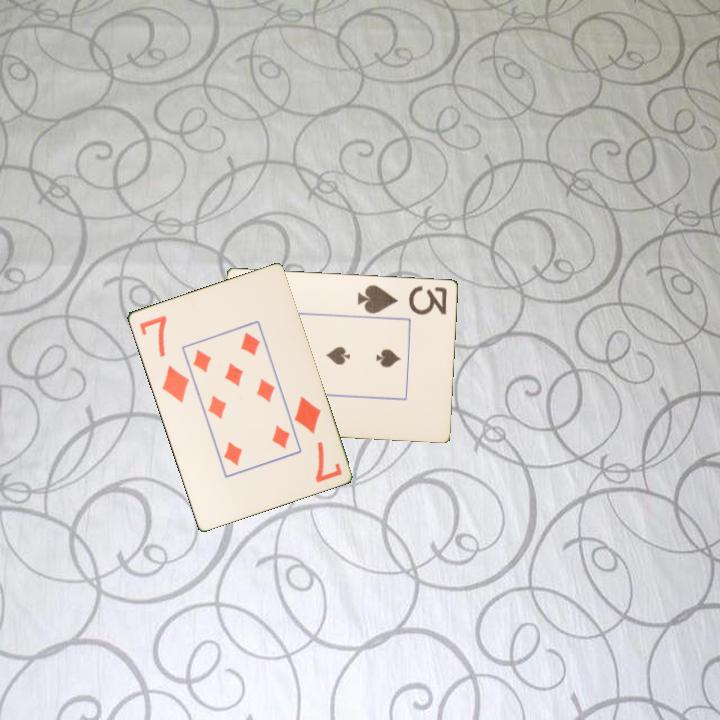3s: (354, 281, 450, 318)
7d: (135, 311, 192, 406), (290, 392, 345, 486)
